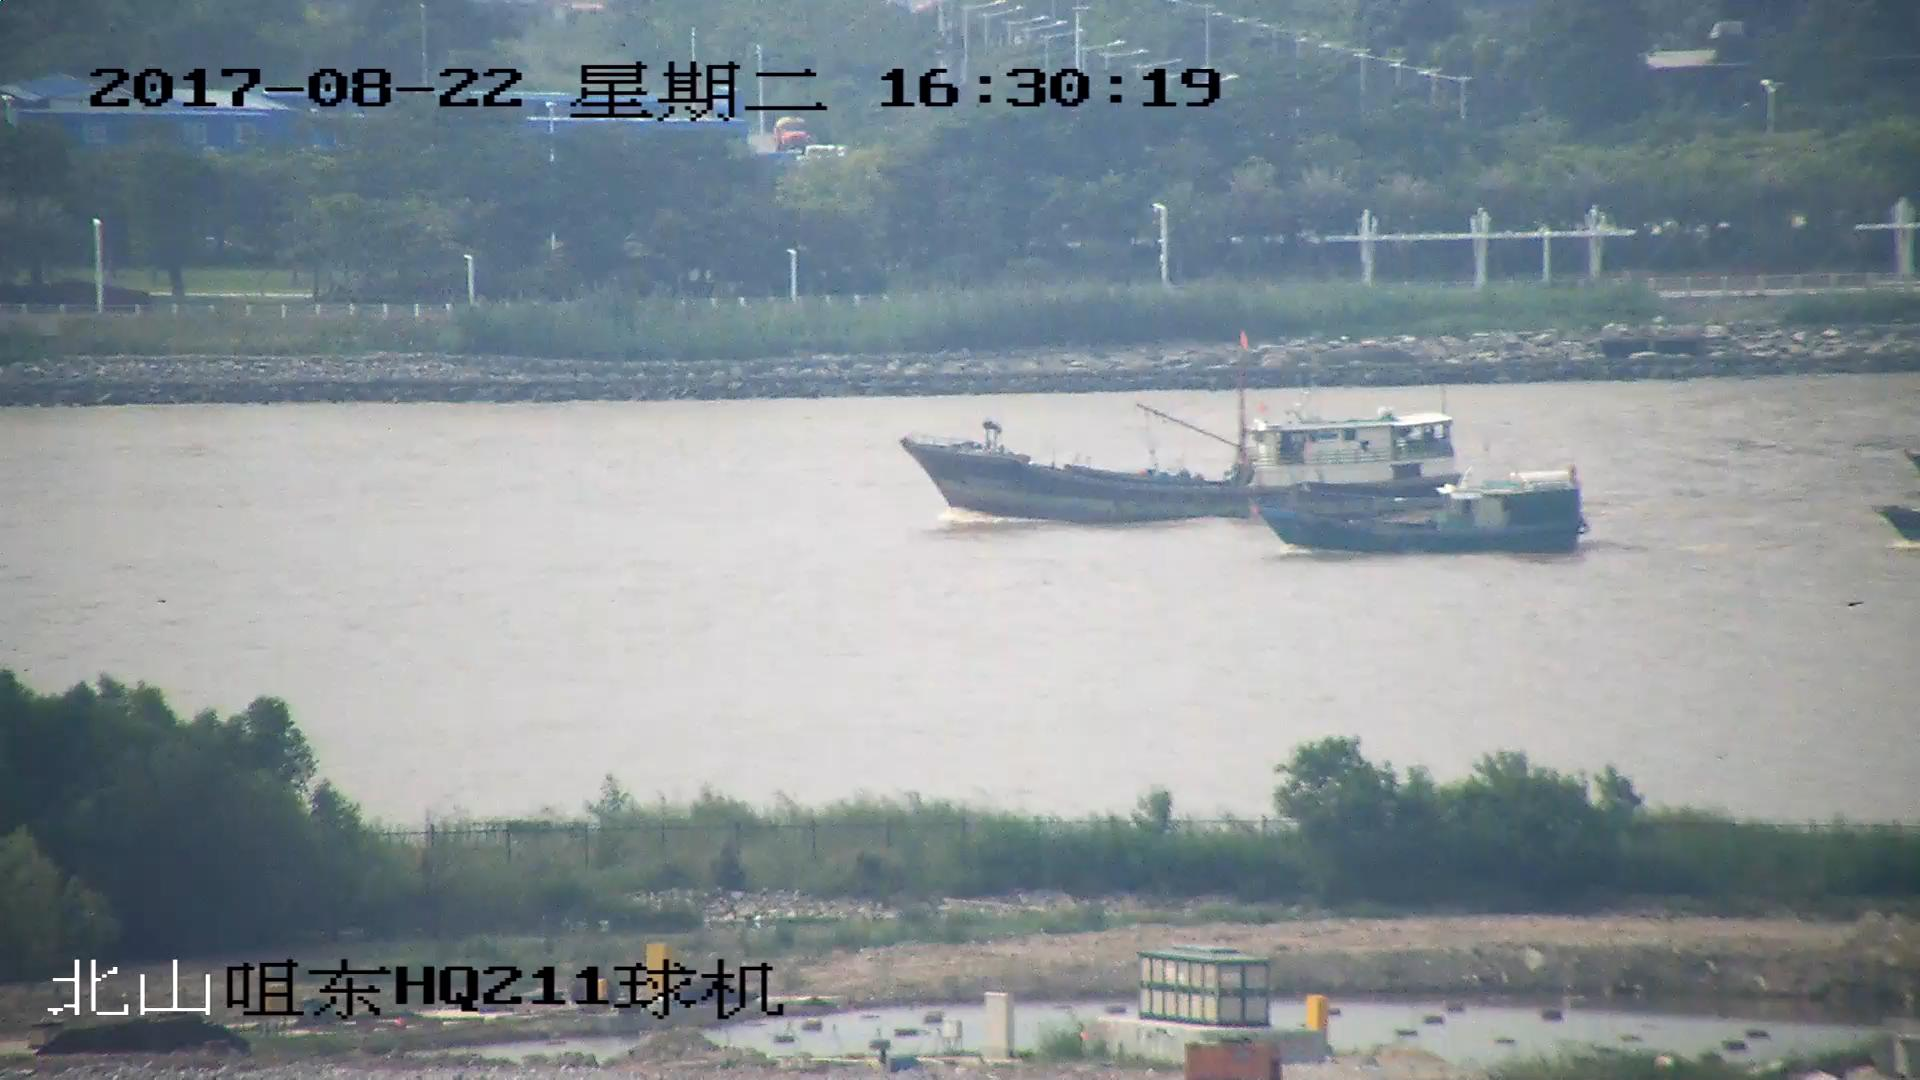fishing boat: (902, 333, 1465, 522), (1261, 471, 1587, 559)
